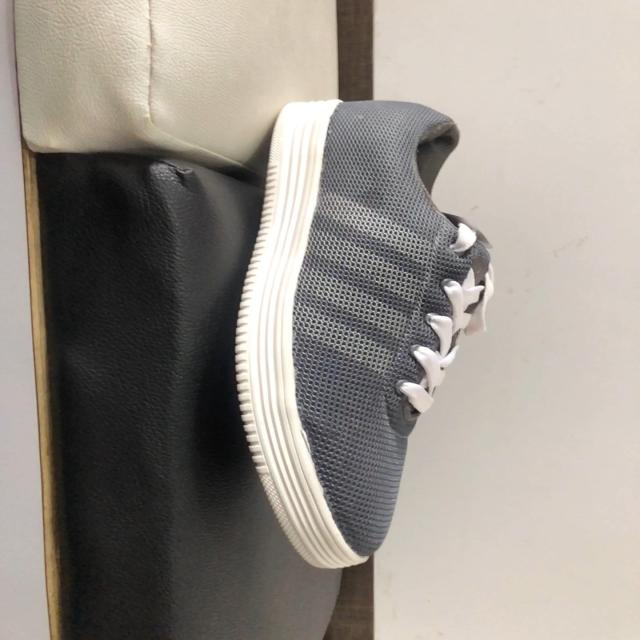shoe: (236, 100, 493, 572)
